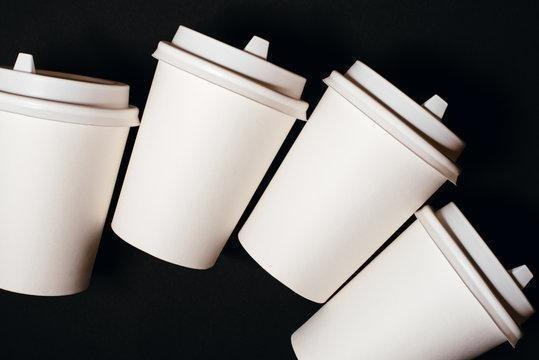cup-disposable: (234, 55, 468, 312), (108, 22, 314, 272), (291, 202, 538, 360), (0, 51, 141, 301)
